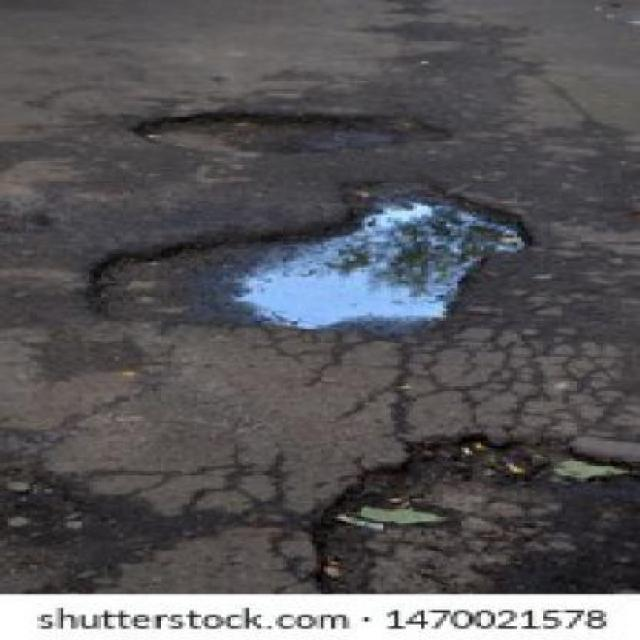Buraco: (78, 170, 542, 347), (293, 429, 639, 595), (122, 106, 459, 165)
